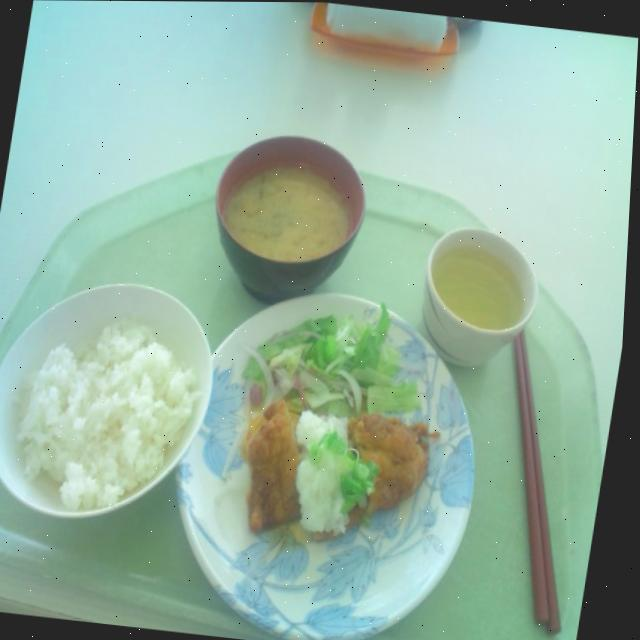汤锅炖物: (205, 117, 370, 292)
米饭主食: (0, 272, 230, 541)
